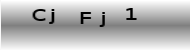1: (124, 7, 138, 21)
C: (31, 8, 47, 21)
F: (79, 10, 92, 25)
j: (98, 10, 107, 28), (47, 8, 56, 25)
